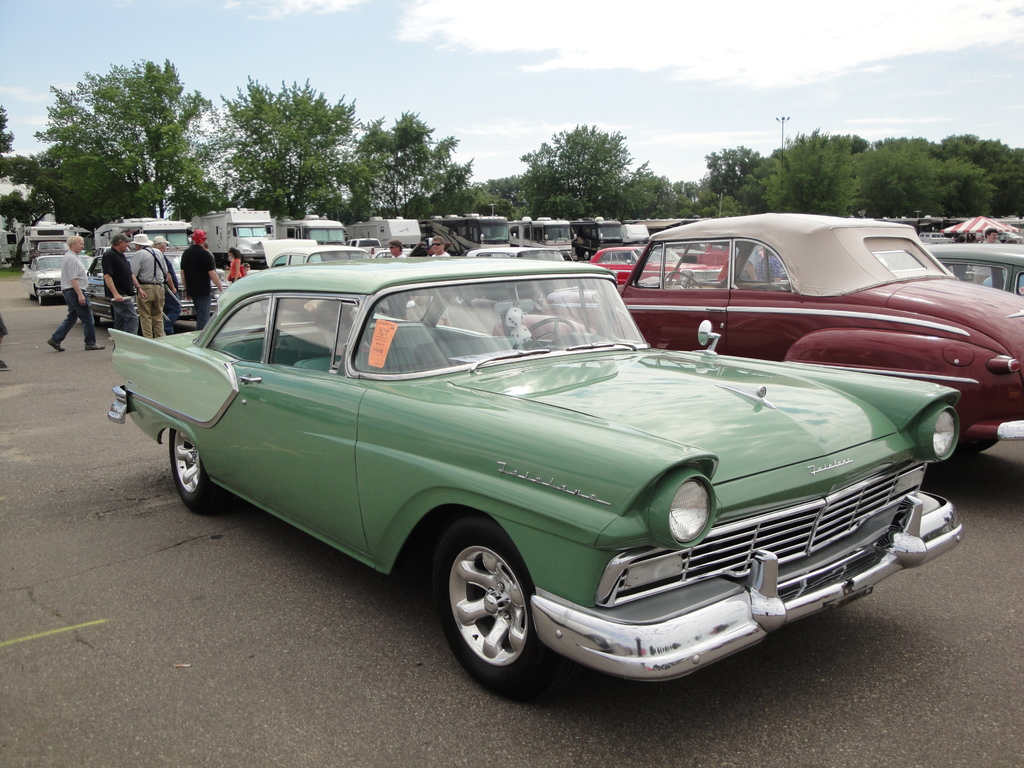Car: (106, 257, 988, 698), (536, 206, 1023, 459), (81, 251, 224, 335), (462, 243, 580, 305), (229, 240, 367, 283), (922, 243, 1023, 295), (583, 247, 724, 283), (21, 255, 93, 304), (31, 240, 69, 258)
